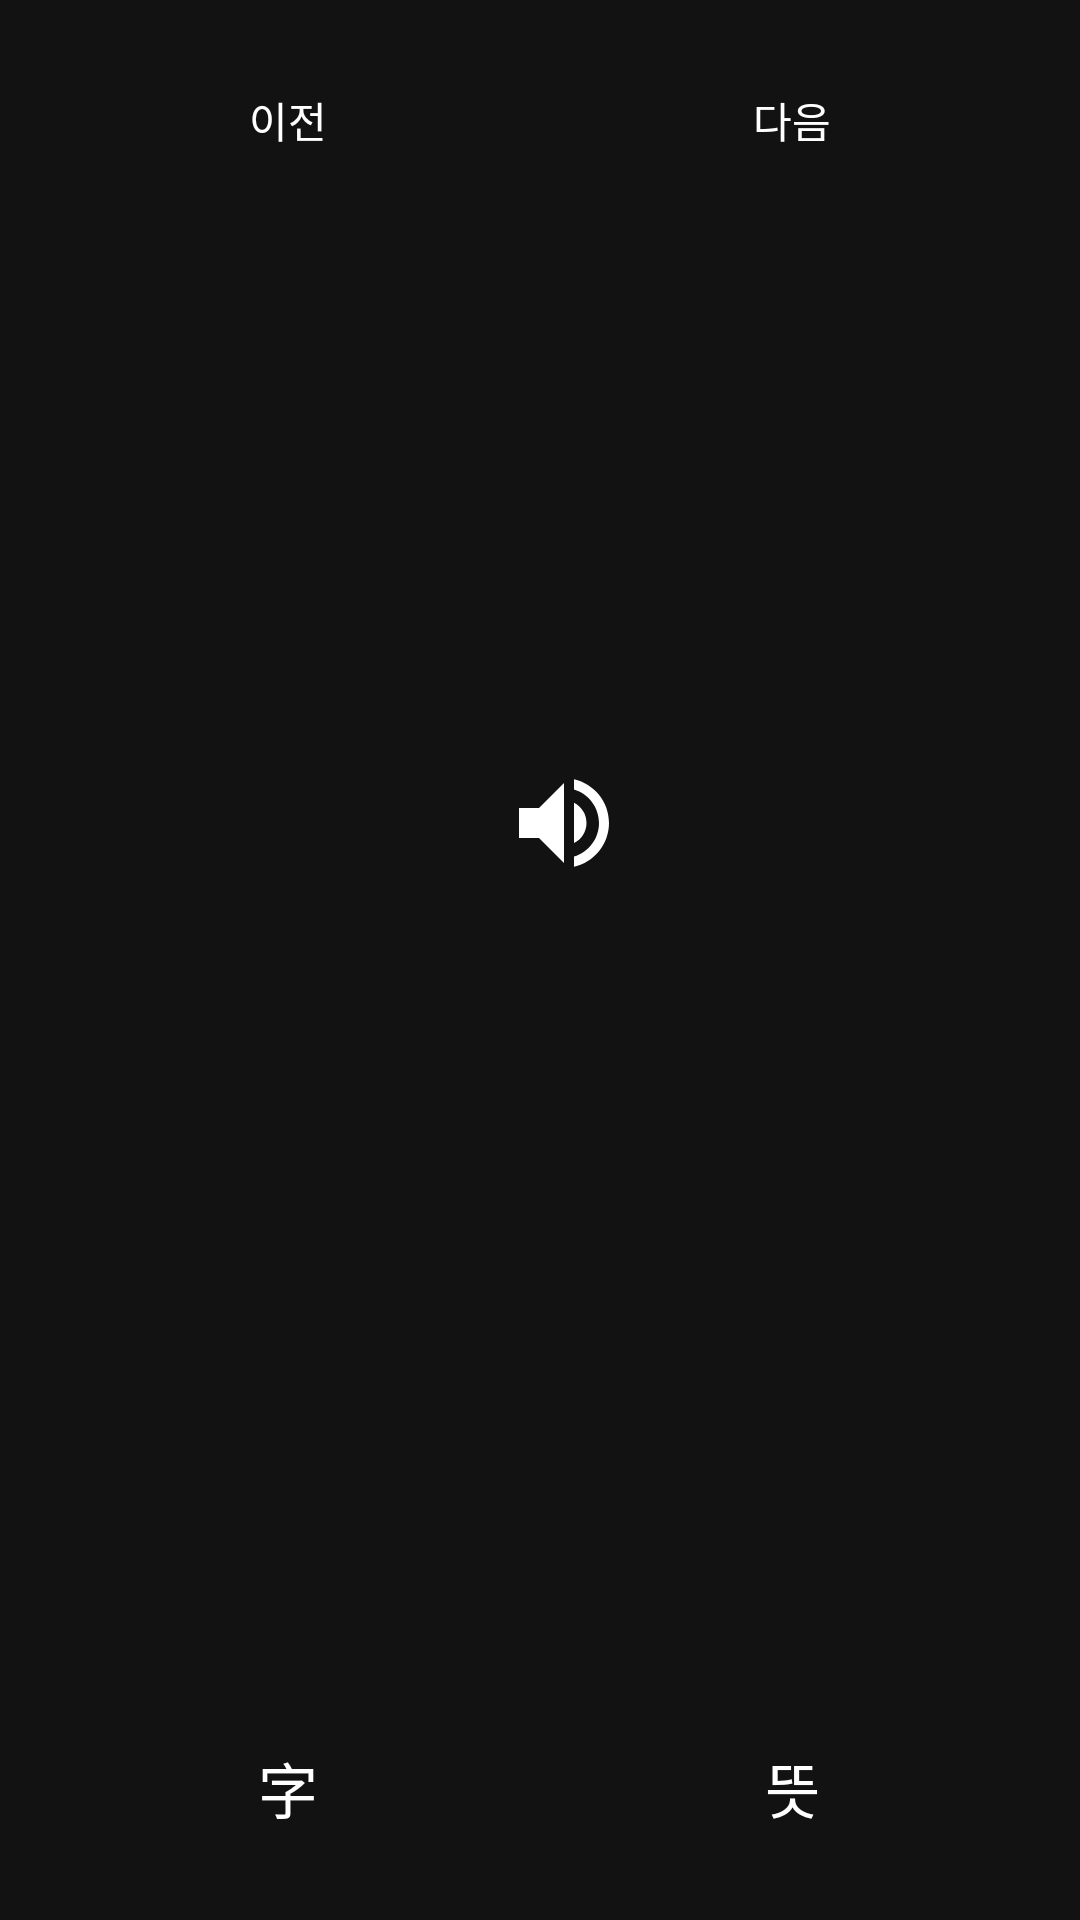

Point at icon controls on the screen. Image size 1080*1920, points as point (x, y).
단어 발음 듣기: point (564, 823)
